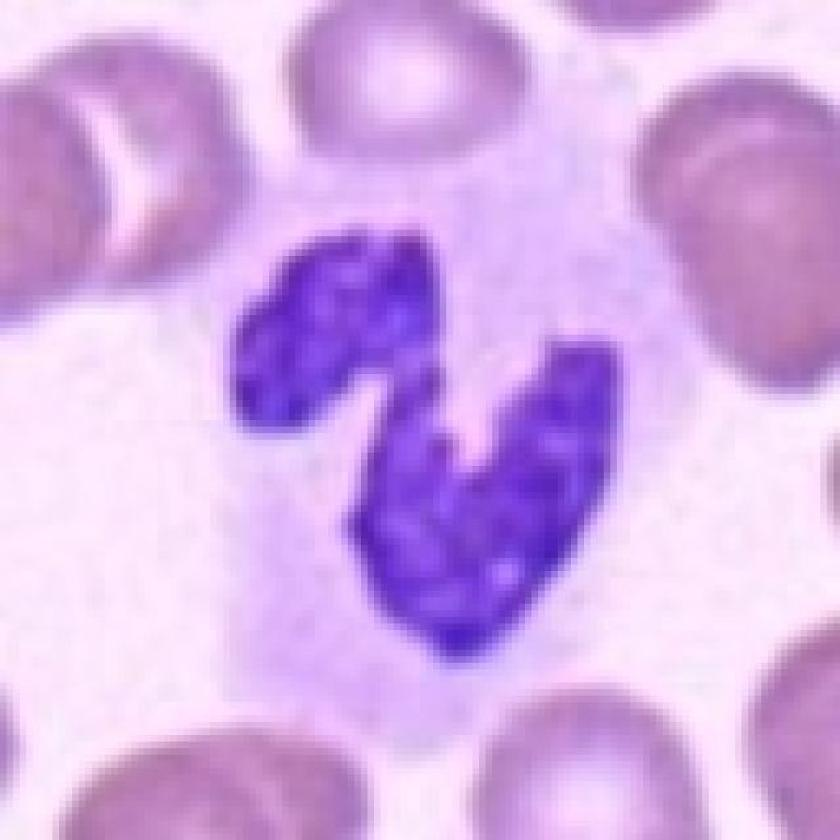neutrophil: (170, 63, 726, 763)
